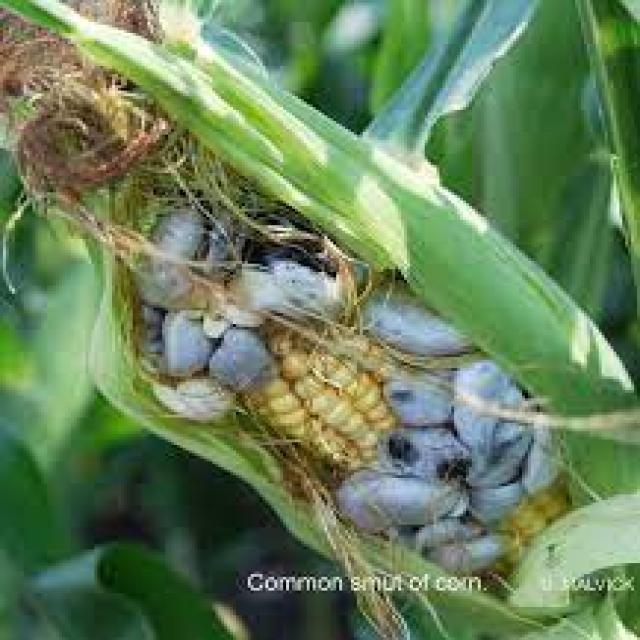Leaf_Scald: (68, 96, 608, 589)
